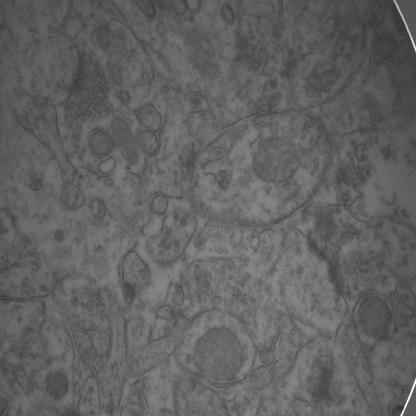mitochondria: (194, 324, 245, 384), (252, 136, 301, 182), (357, 295, 393, 344), (110, 119, 140, 168), (46, 370, 70, 400)
